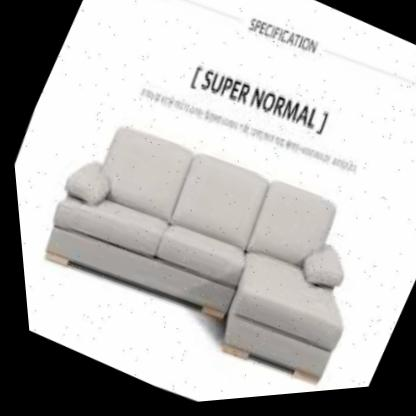Sofa: (6, 51, 416, 416)
